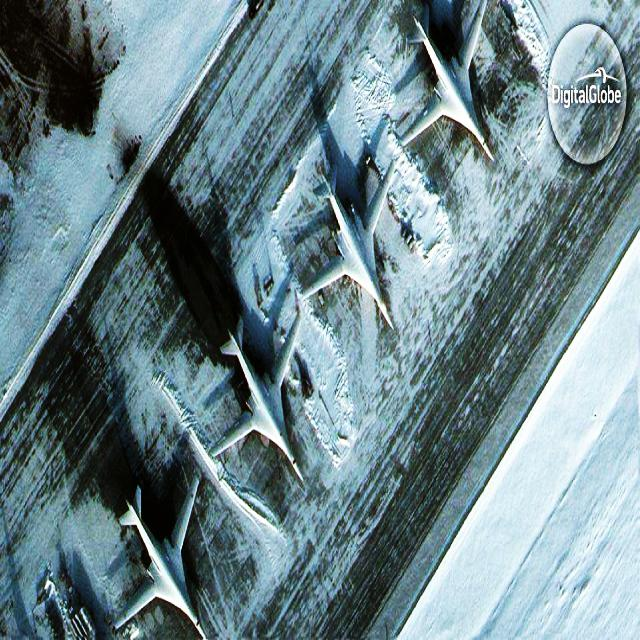Aircraft: (202, 308, 308, 486), (298, 157, 400, 336), (103, 472, 212, 635), (394, 0, 499, 165)
